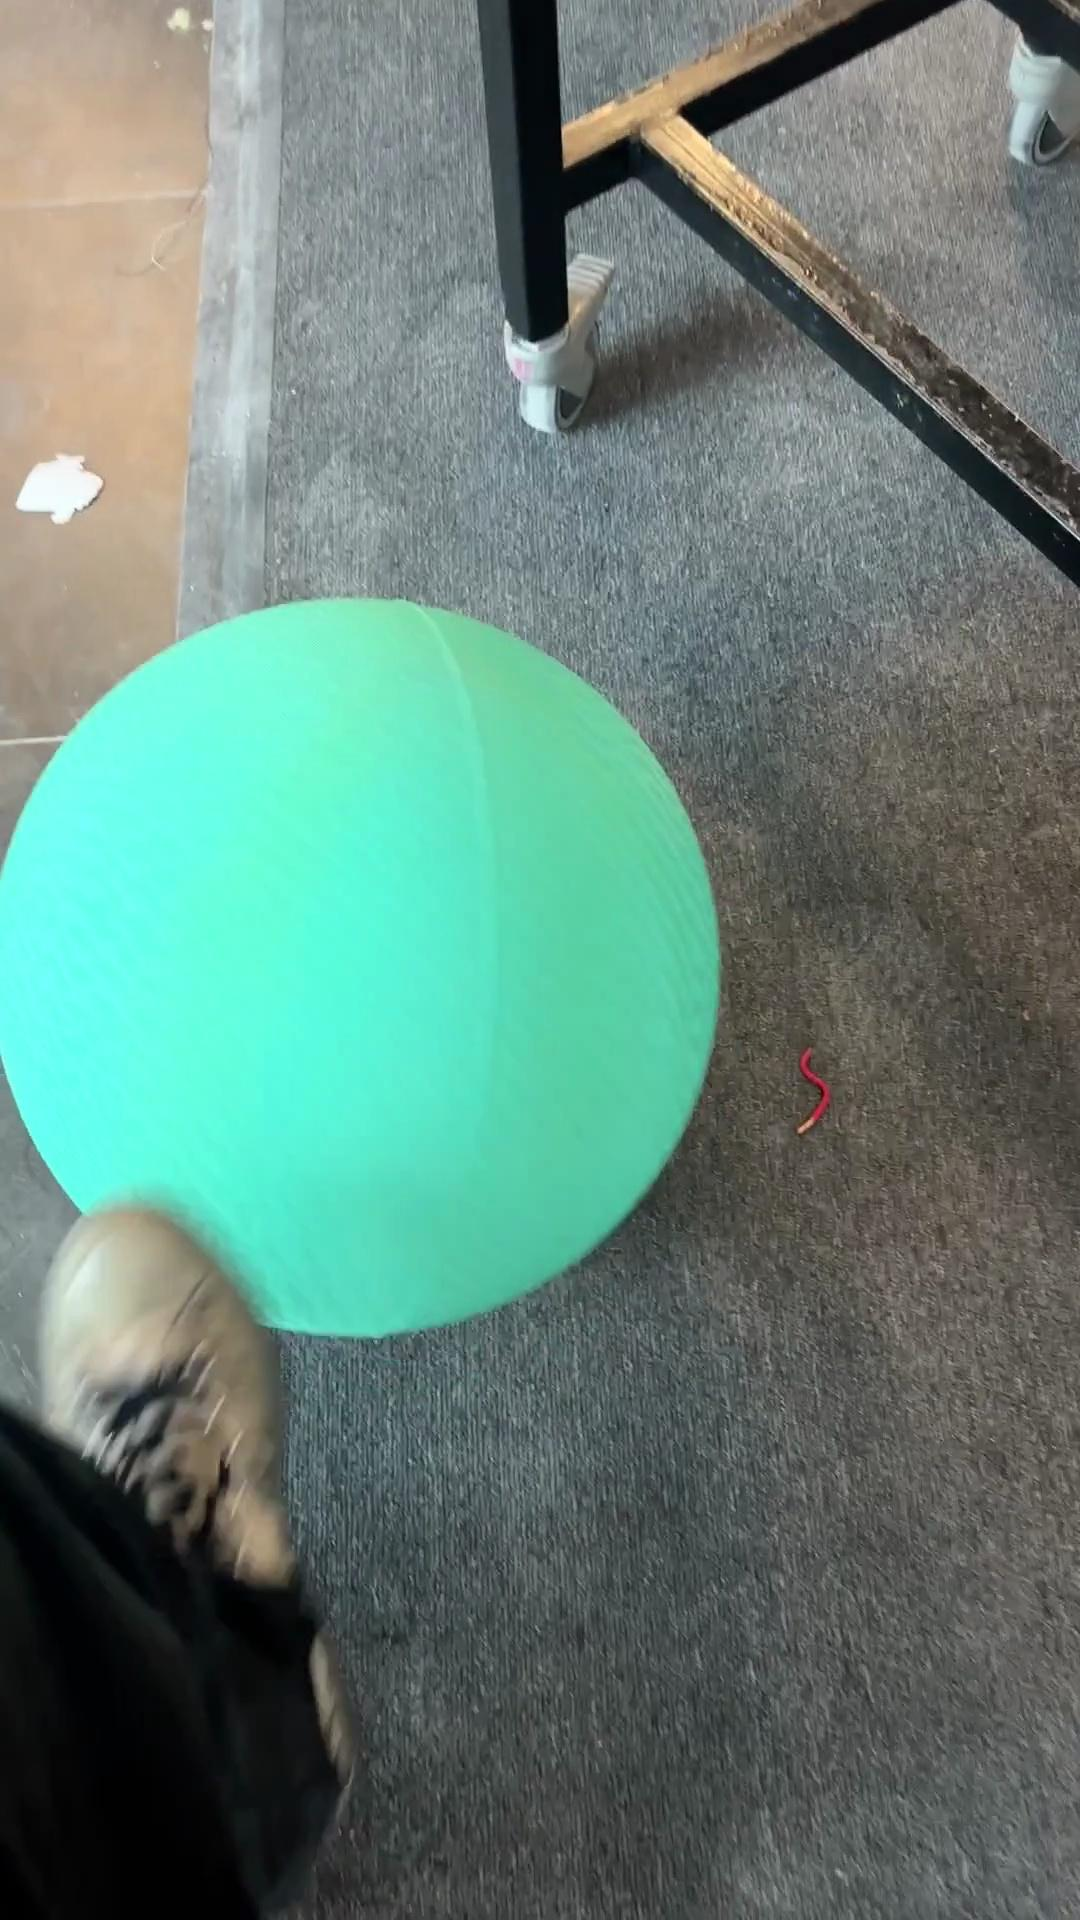ALGAE: (1, 593, 723, 1341)
